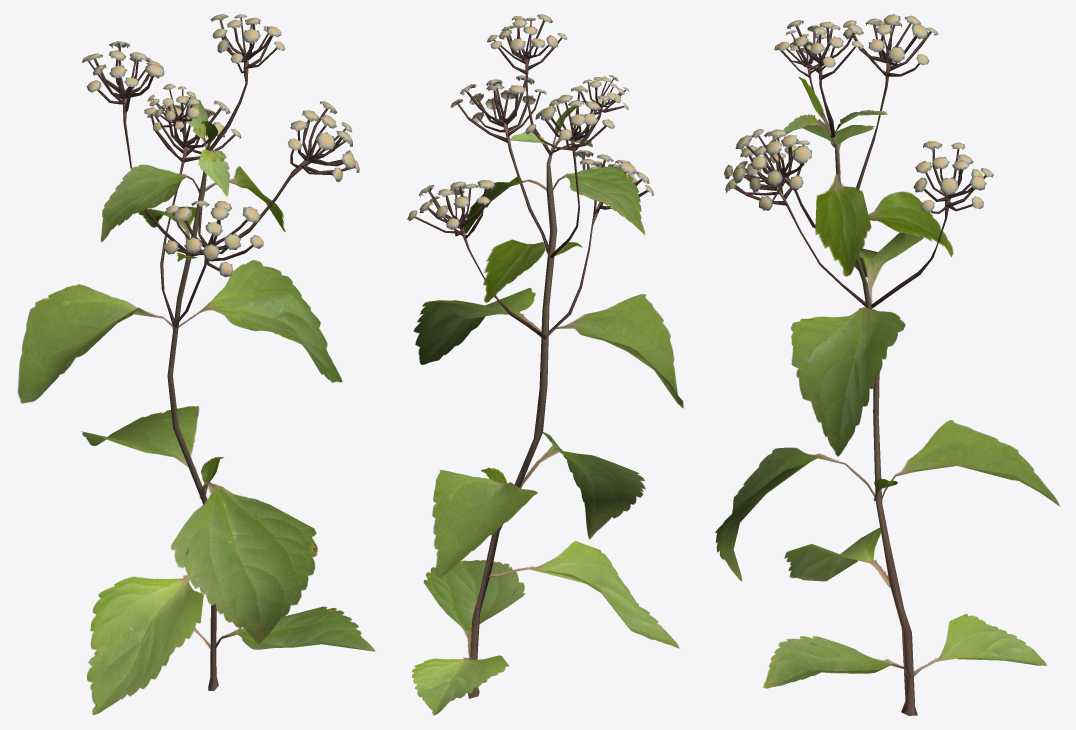
Rendered from shrub.glb.
3 views of the same model, side by side, from view 1: azimuth 30°, elevation 25°; view 2: azimuth 150°, elevation 25°; view 3: azimuth 270°, elevation 25° (orthographic). The views are drawn at different scales.
Visible parts, largest first — view 1: shrub_01_g_LOD3; view 2: shrub_01_g_LOD3; view 3: shrub_01_g_LOD3.
Boxes of the visible parts, x1,y1,x2,y2 form: shrub_01_g_LOD3: [17, 14, 375, 715]; shrub_01_g_LOD3: [407, 14, 683, 715]; shrub_01_g_LOD3: [715, 14, 1059, 715].
Size of the model in its own units: 0.1133 by 0.2476 by 0.1138.
Materials: 1 (1 with a texture image).
